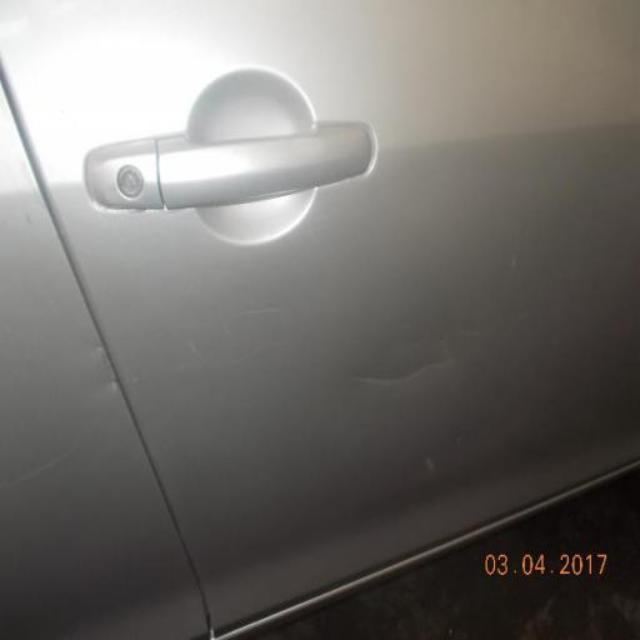dent: (348, 349, 467, 402), (88, 338, 140, 411)
